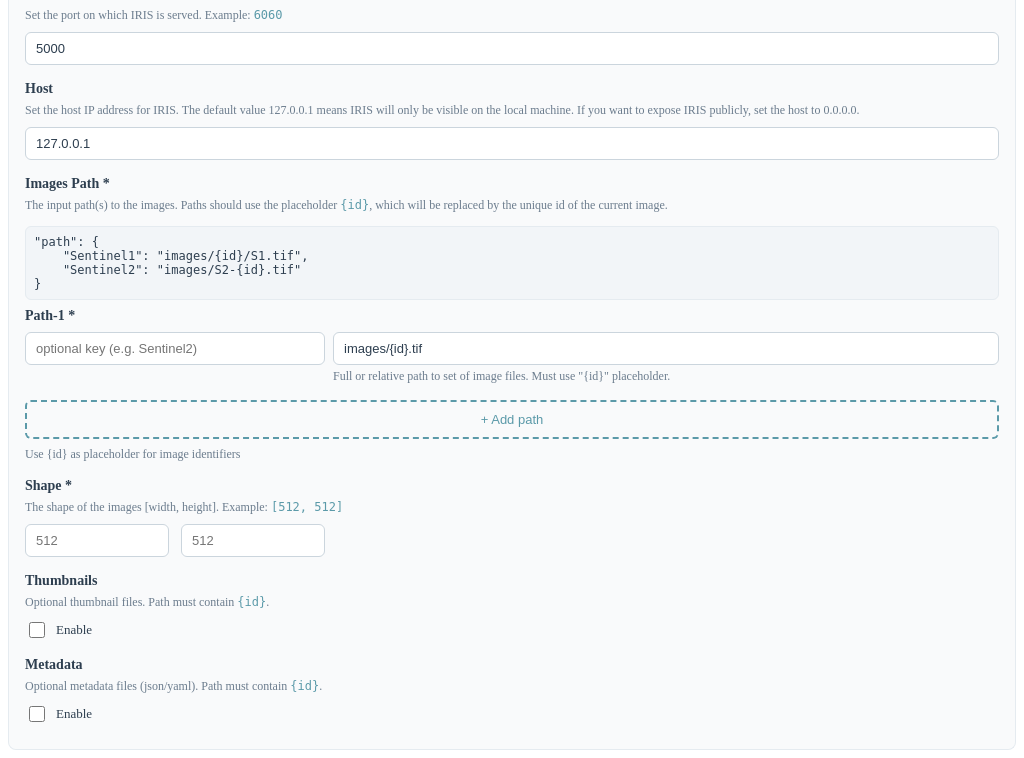
Test case: GeneralSection › Metadata toggle › shows input field when checkbox is checked
The width and height of the screenshot is (1024, 758).
(page scrolled)
expect the field with placeholder "metadata/{id}.json" is not shown: met
Click the 2nd checkbox labelled "Enable". click: [37, 714]
box: [29,706,45,722]
(page scrolled)
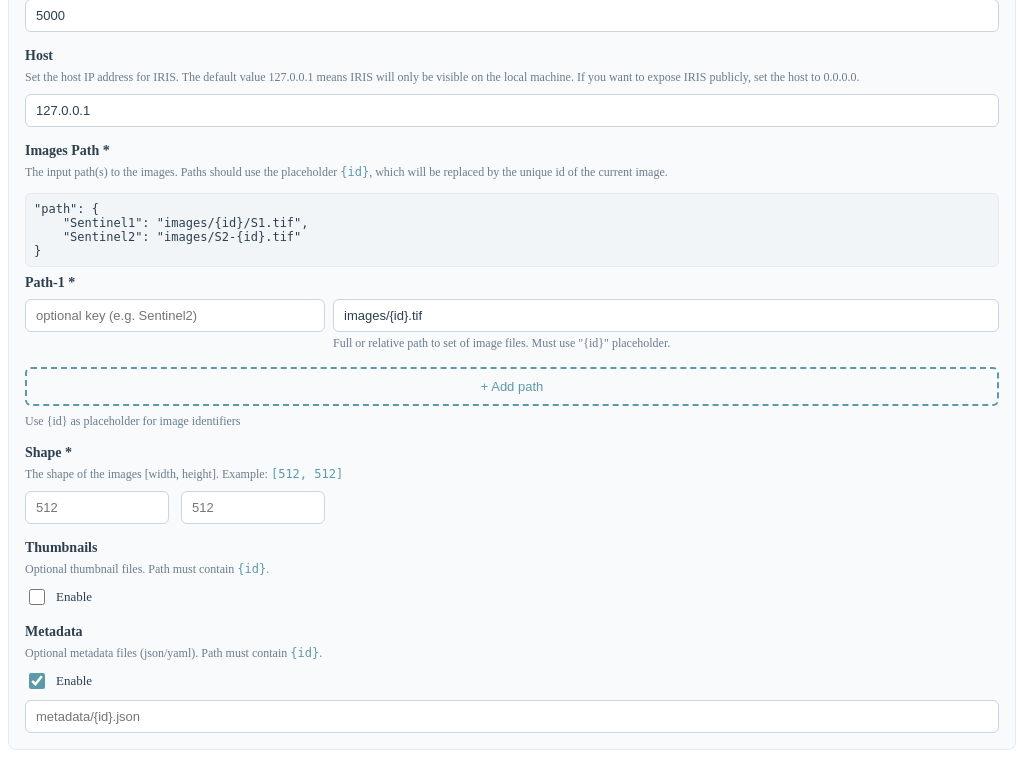
expect the field with placeholder "metadata/{id}.json" is shown: met, box [25,700,999,733]
